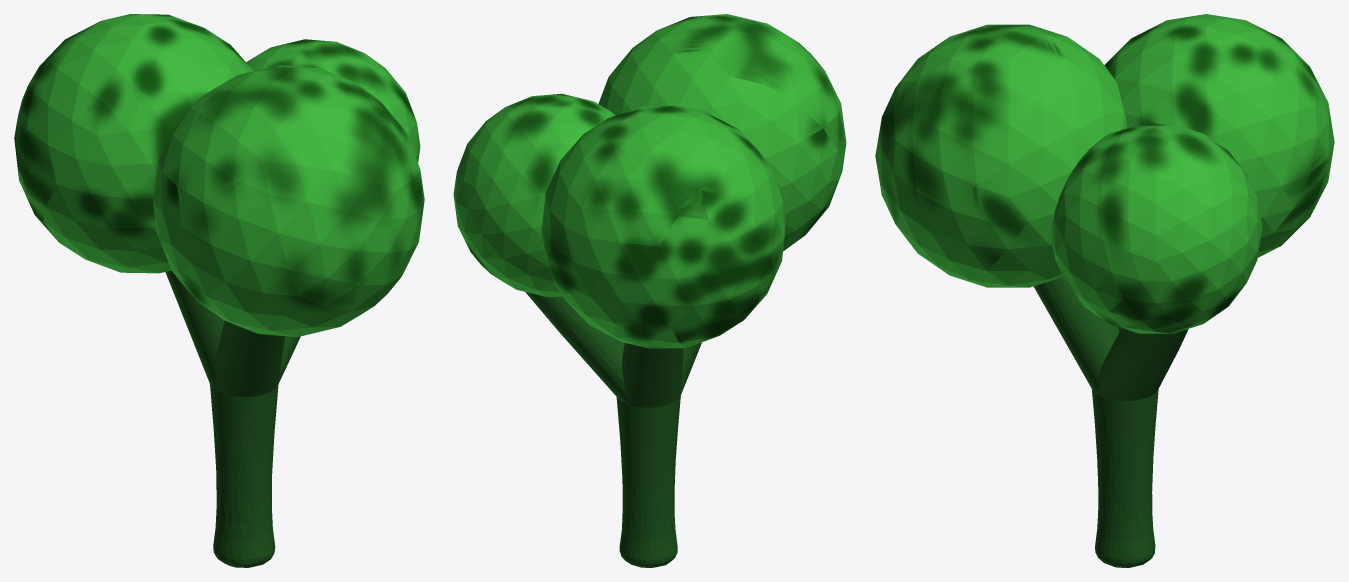
Rendered from broccoli.fbx.
3 renders of one model, left to right at view 1: azimuth 30°, elevation 25°; view 2: azimuth 150°, elevation 25°; view 3: azimuth 270°, elevation 25°, orthographic. The views are drawn at different scales.
Visible parts, largest first — view 1: Icosphere.002, Icosphere, Cylinder, Icosphere.001; view 2: Icosphere, Icosphere.002, Icosphere.001, Cylinder; view 3: Icosphere.002, Icosphere.001, Icosphere, Cylinder.
Boxes of the visible parts, x1,y1,x2,y2 form: Icosphere.002: (153,65,424,336); Icosphere: (14,14,253,273); Cylinder: (165,270,300,567); Icosphere.001: (246,39,420,162); Icosphere: (541,105,786,348); Icosphere.002: (598,14,846,251); Icosphere.001: (453,93,614,297); Cylinder: (525,292,701,567); Icosphere.002: (875,24,1126,287); Icosphere.001: (1051,124,1262,333); Icosphere: (1104,14,1334,257); Cylinder: (1033,277,1188,567).
Size of the model in its own units: 181 by 263 by 212.
Materials: 4 (4 with a texture image).
